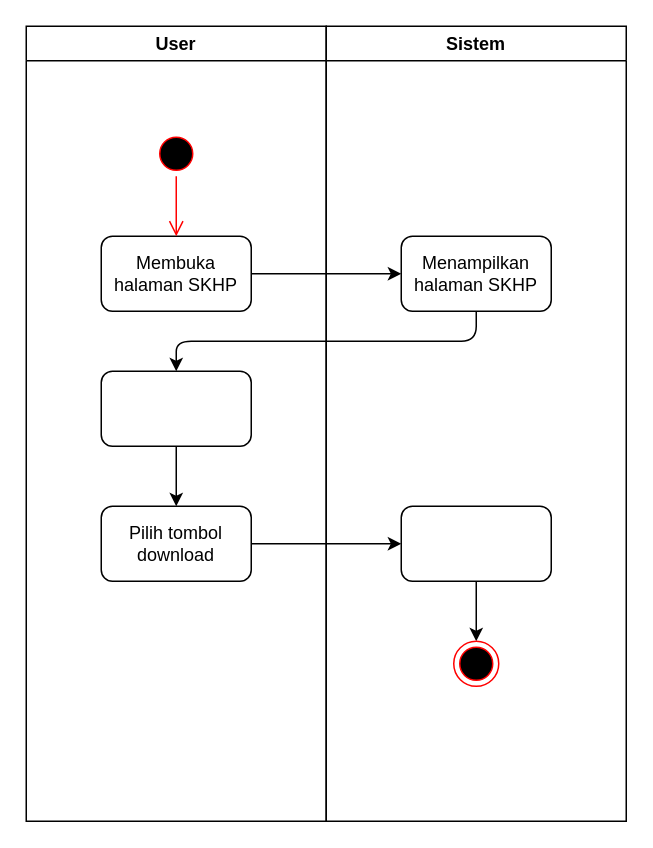
Some shapes in this 653 by 848 pixel diagram are drawn without their labels. Here are the shapes that lost their labels. From the top down, the centre of each, then its label:
At (x=175, y=408): "Tandai data PLO yang ingin di unduh".
At (x=475, y=543): "Data berhasil terunduh".
